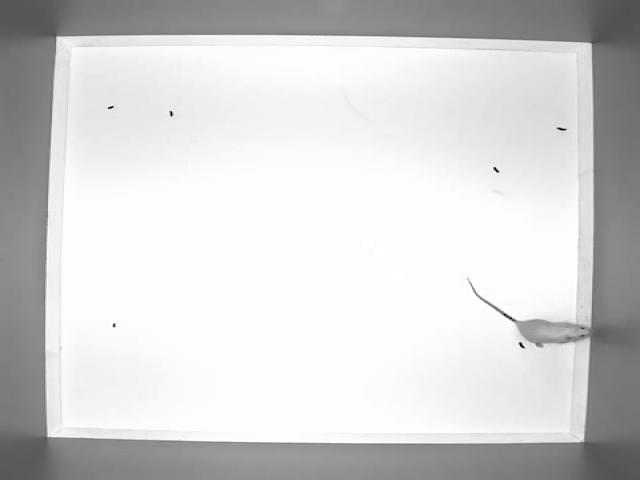Tikus: (467, 280, 593, 349)
